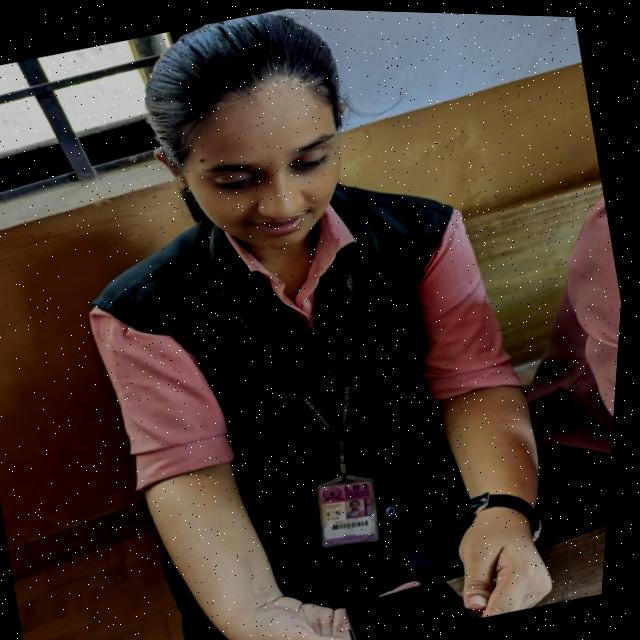id_card: (181, 215, 453, 576)
